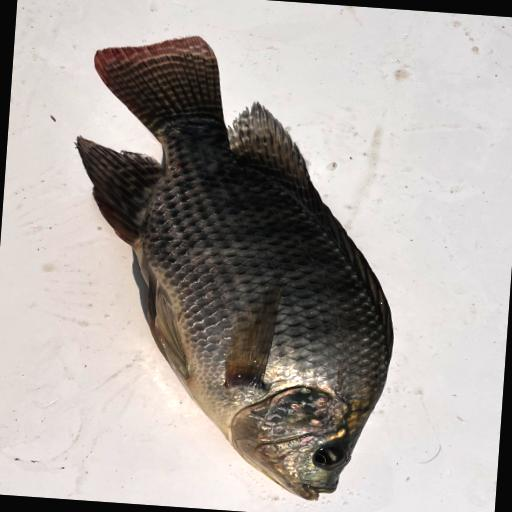Tilapia: (51, 28, 414, 507)
